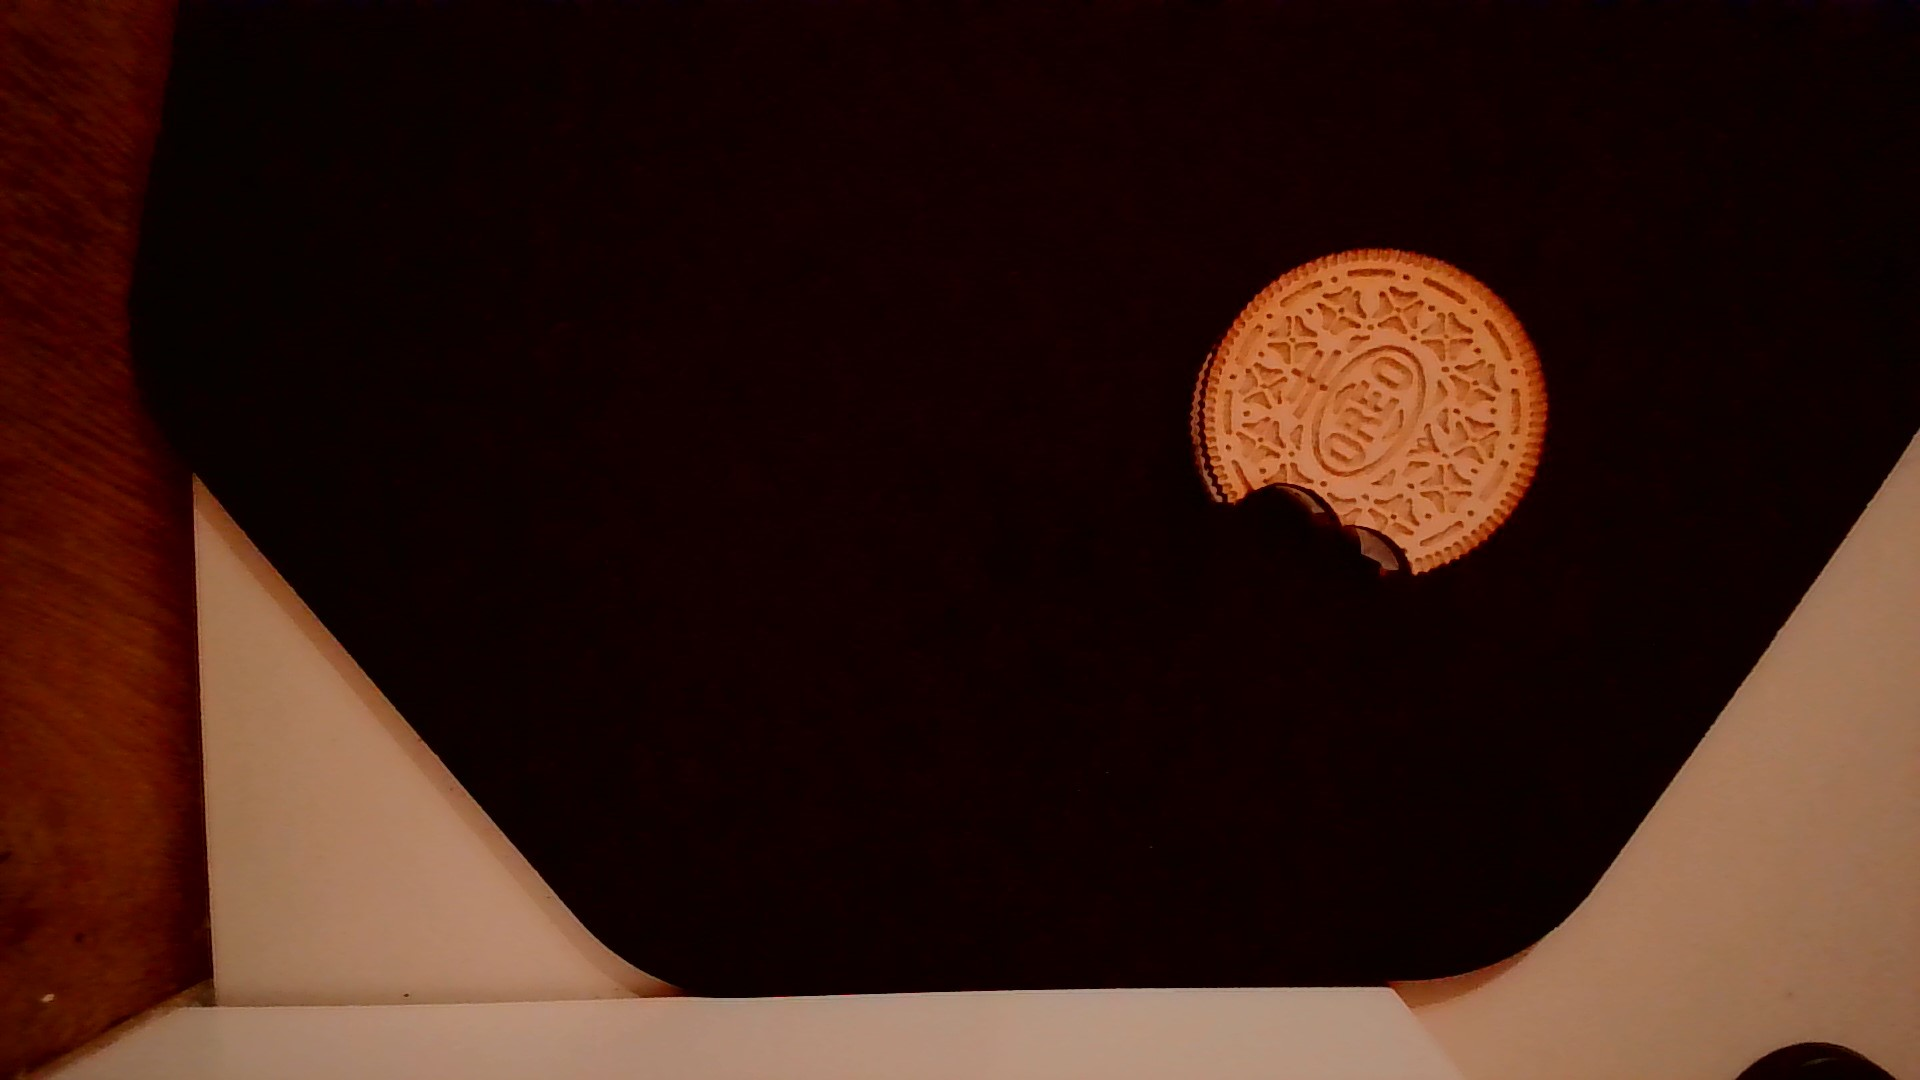Mangé: (1197, 458, 1445, 612)
Oréo: (1183, 241, 1556, 593)
